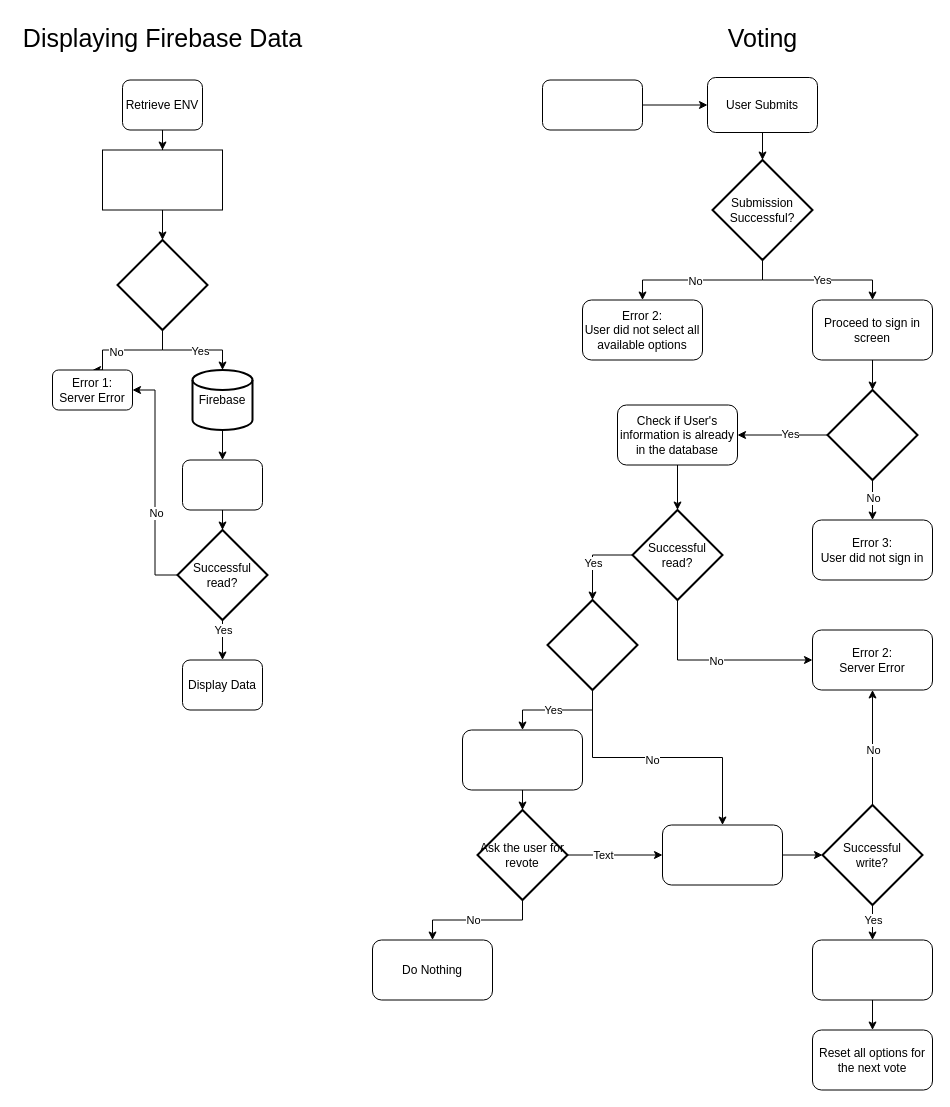
Some shapes in this 950 by 1107 pixel diagram are drawn without their labels. Each missing label, with the centre of its shape:
Attempt connection to Firebase: (162,179)
Connected?: (162,284)
Display previously voted options: (522,759)
Has User already voted before?: (592,644)
Retrieve Data: (222,484)
Sign in Successful?: (872,434)
Update Database with new votes: (722,854)
Update displayed graph: (872,969)
User selects voting options: (592,104)
